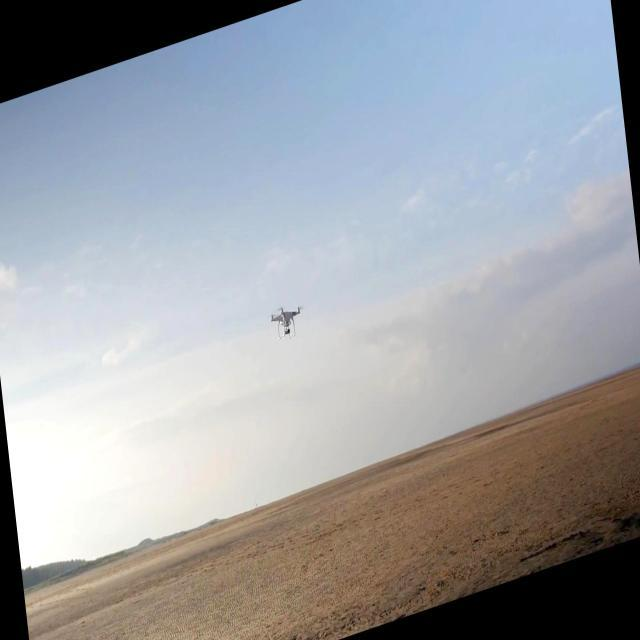drone: (266, 299, 304, 349)
